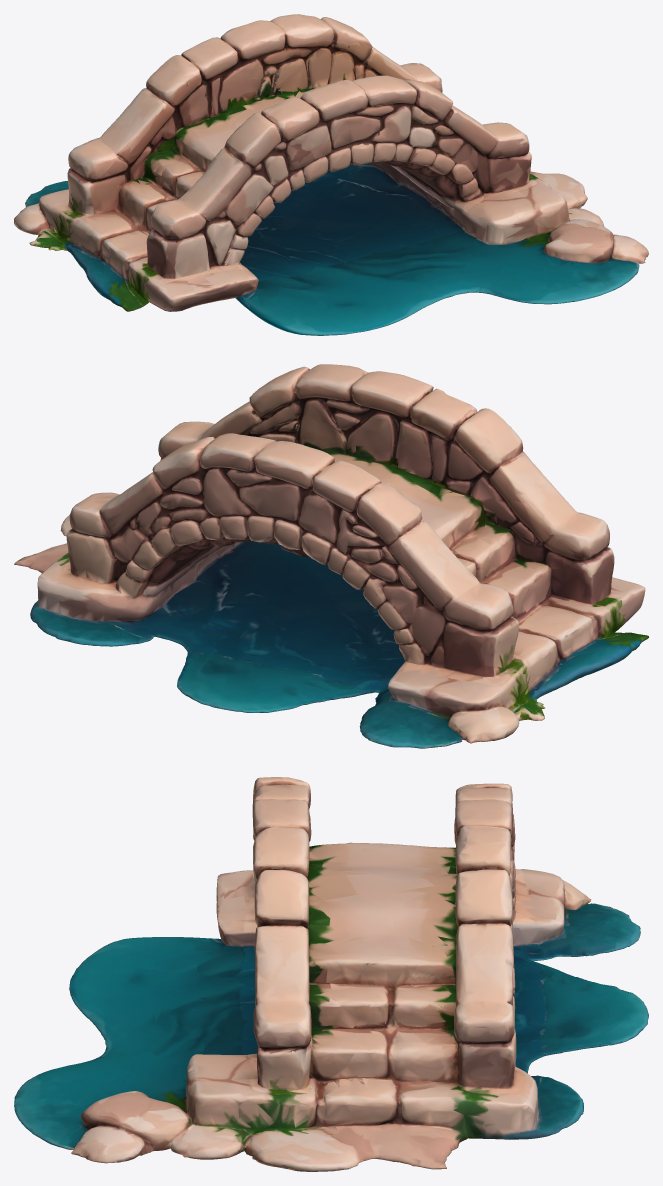
File: Stone_Bridge.glb
3 views of the same model, one above another, from view 1: azimuth 30°, elevation 25°; view 2: azimuth 150°, elevation 25°; view 3: azimuth 270°, elevation 25° (orthographic). The views are drawn at different scales.
Parts seen in each view (by area): view 1: Stone_Bridge; view 2: Stone_Bridge; view 3: Stone_Bridge.
Boxes of the visible parts, x1,y1,x2,y2 form: Stone_Bridge: (14,14,648,335); Stone_Bridge: (14,364,648,748); Stone_Bridge: (14,777,648,1171).
Bounding box in the file's own units: 1.9 × 0.6454 × 1.78.
1 material, 1 textured.
